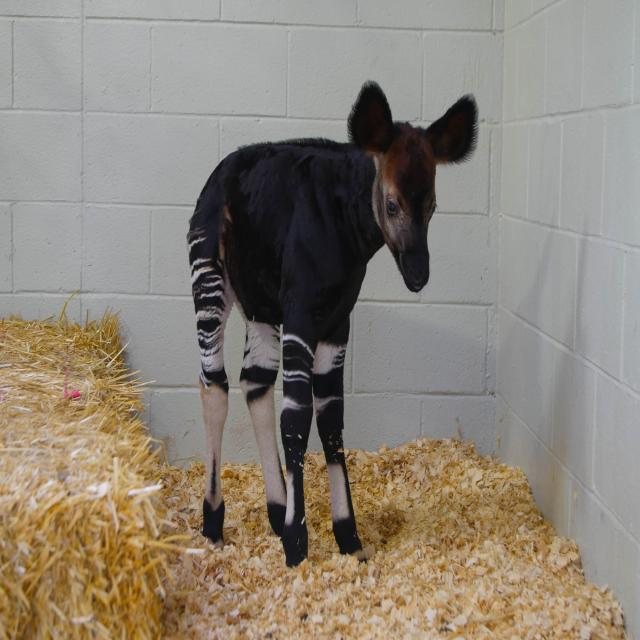Okapi: (184, 83, 480, 554)
